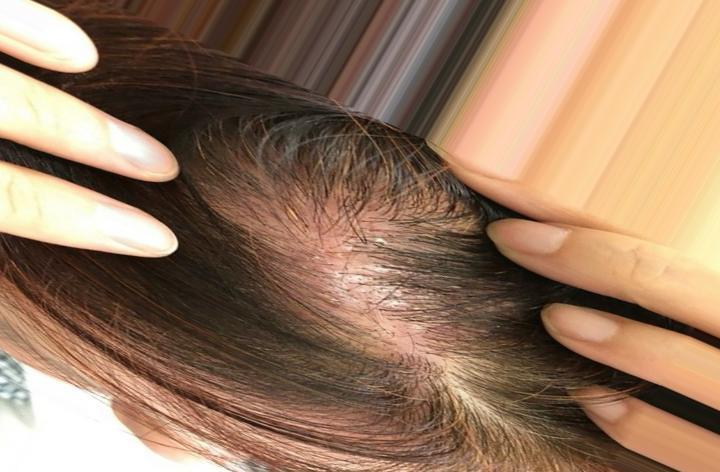Contact Dermatitis: (218, 120, 489, 410)
